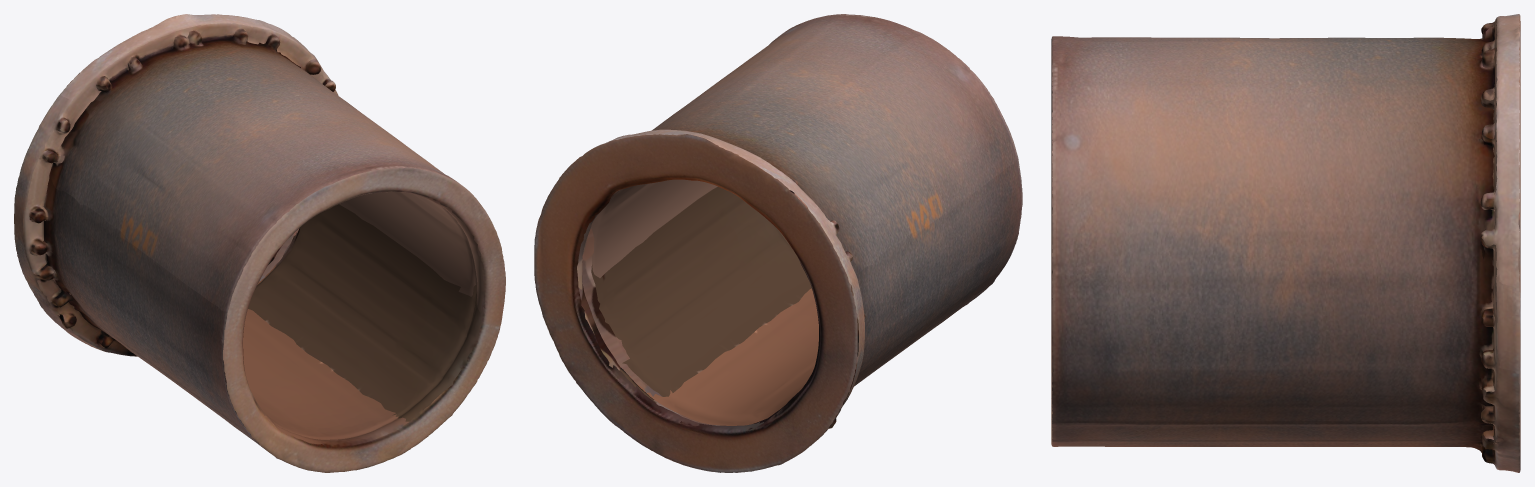
The model's file is pipe3.fbx.
The picture shows the model from 3 angles, left to right: view 1: azimuth 30°, elevation 25°; view 2: azimuth 150°, elevation 25°; view 3: azimuth 270°, elevation 25°; orthographic projection. The views are drawn at different scales.
Parts seen in each view (by area): view 1: tmp9mt0fl1m.ply; view 2: tmp9mt0fl1m.ply; view 3: tmp9mt0fl1m.ply.
Boxes of the visible parts, x1,y1,x2,y2 form: tmp9mt0fl1m.ply: (14,14,505,472); tmp9mt0fl1m.ply: (534,14,1022,472); tmp9mt0fl1m.ply: (1051,14,1520,472).
Size of the model in its own units: 99.15 by 97.32 by 98.9.
1 material, 1 textured.
